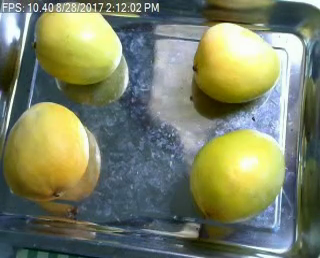Mango: (0, 98, 88, 201), (188, 130, 283, 220), (192, 20, 281, 104), (34, 3, 122, 85)
